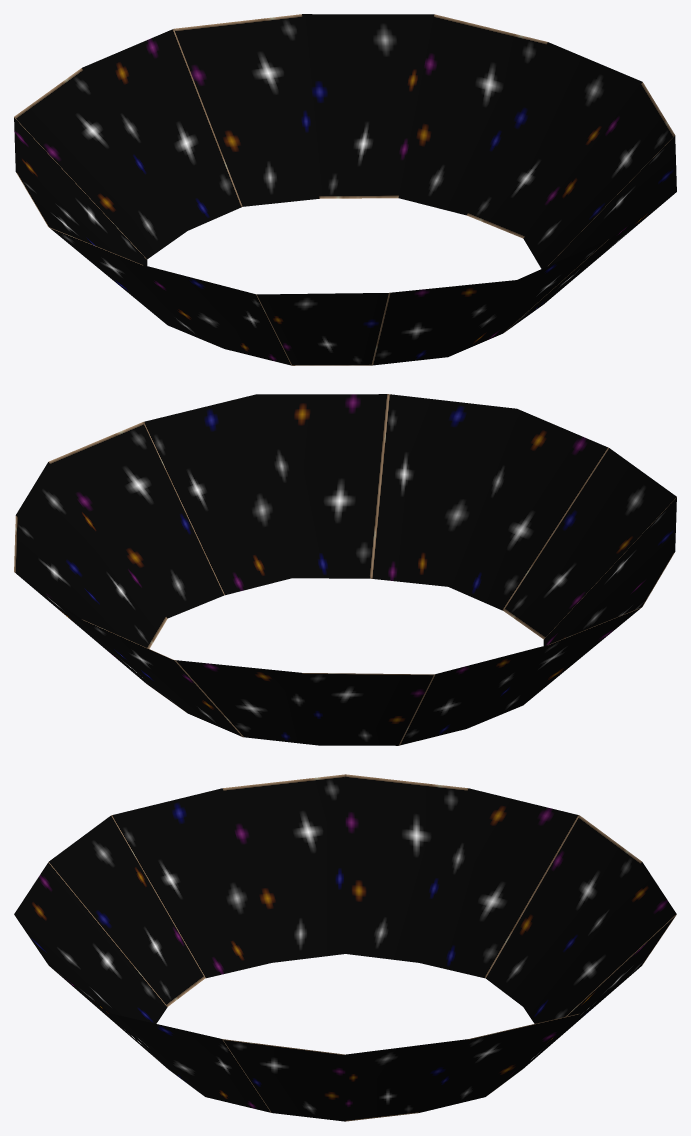
3 views of the same model, one above another, from view 1: azimuth 30°, elevation 25°; view 2: azimuth 150°, elevation 25°; view 3: azimuth 270°, elevation 25° (orthographic). The views are drawn at different scales.
Visible parts, largest first — view 1: T1L2M009_41; view 2: T1L2M009_41; view 3: T1L2M009_41.
Part boxes in pixels (x1,y1,x2,y2): T1L2M009_41: (14,14,676,365); T1L2M009_41: (14,394,676,745); T1L2M009_41: (14,774,676,1121).
Size of the model in its own units: 2.87 by 0.5947 by 2.87.
